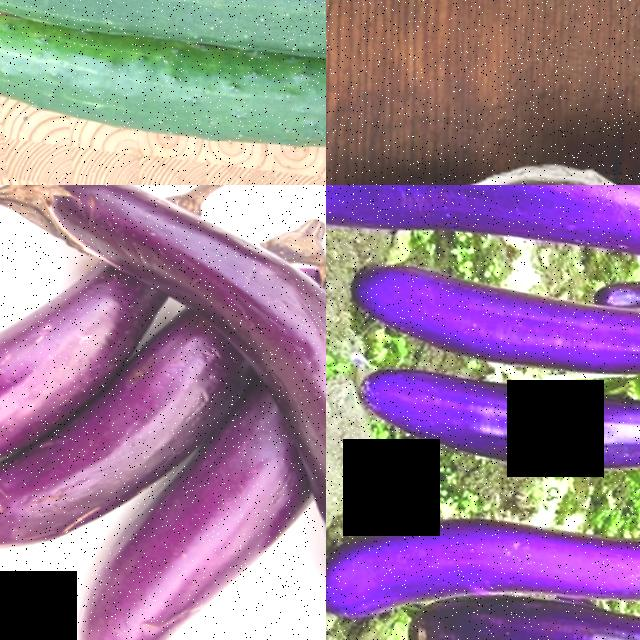cucumber: (0, 0, 326, 185), (0, 0, 326, 103)
eggplant: (0, 185, 326, 326), (338, 351, 640, 499), (337, 254, 640, 387), (368, 494, 640, 620), (326, 185, 640, 289), (40, 505, 277, 640), (0, 432, 150, 580), (381, 578, 640, 640), (278, 402, 326, 636), (0, 301, 50, 497), (592, 274, 640, 324)
